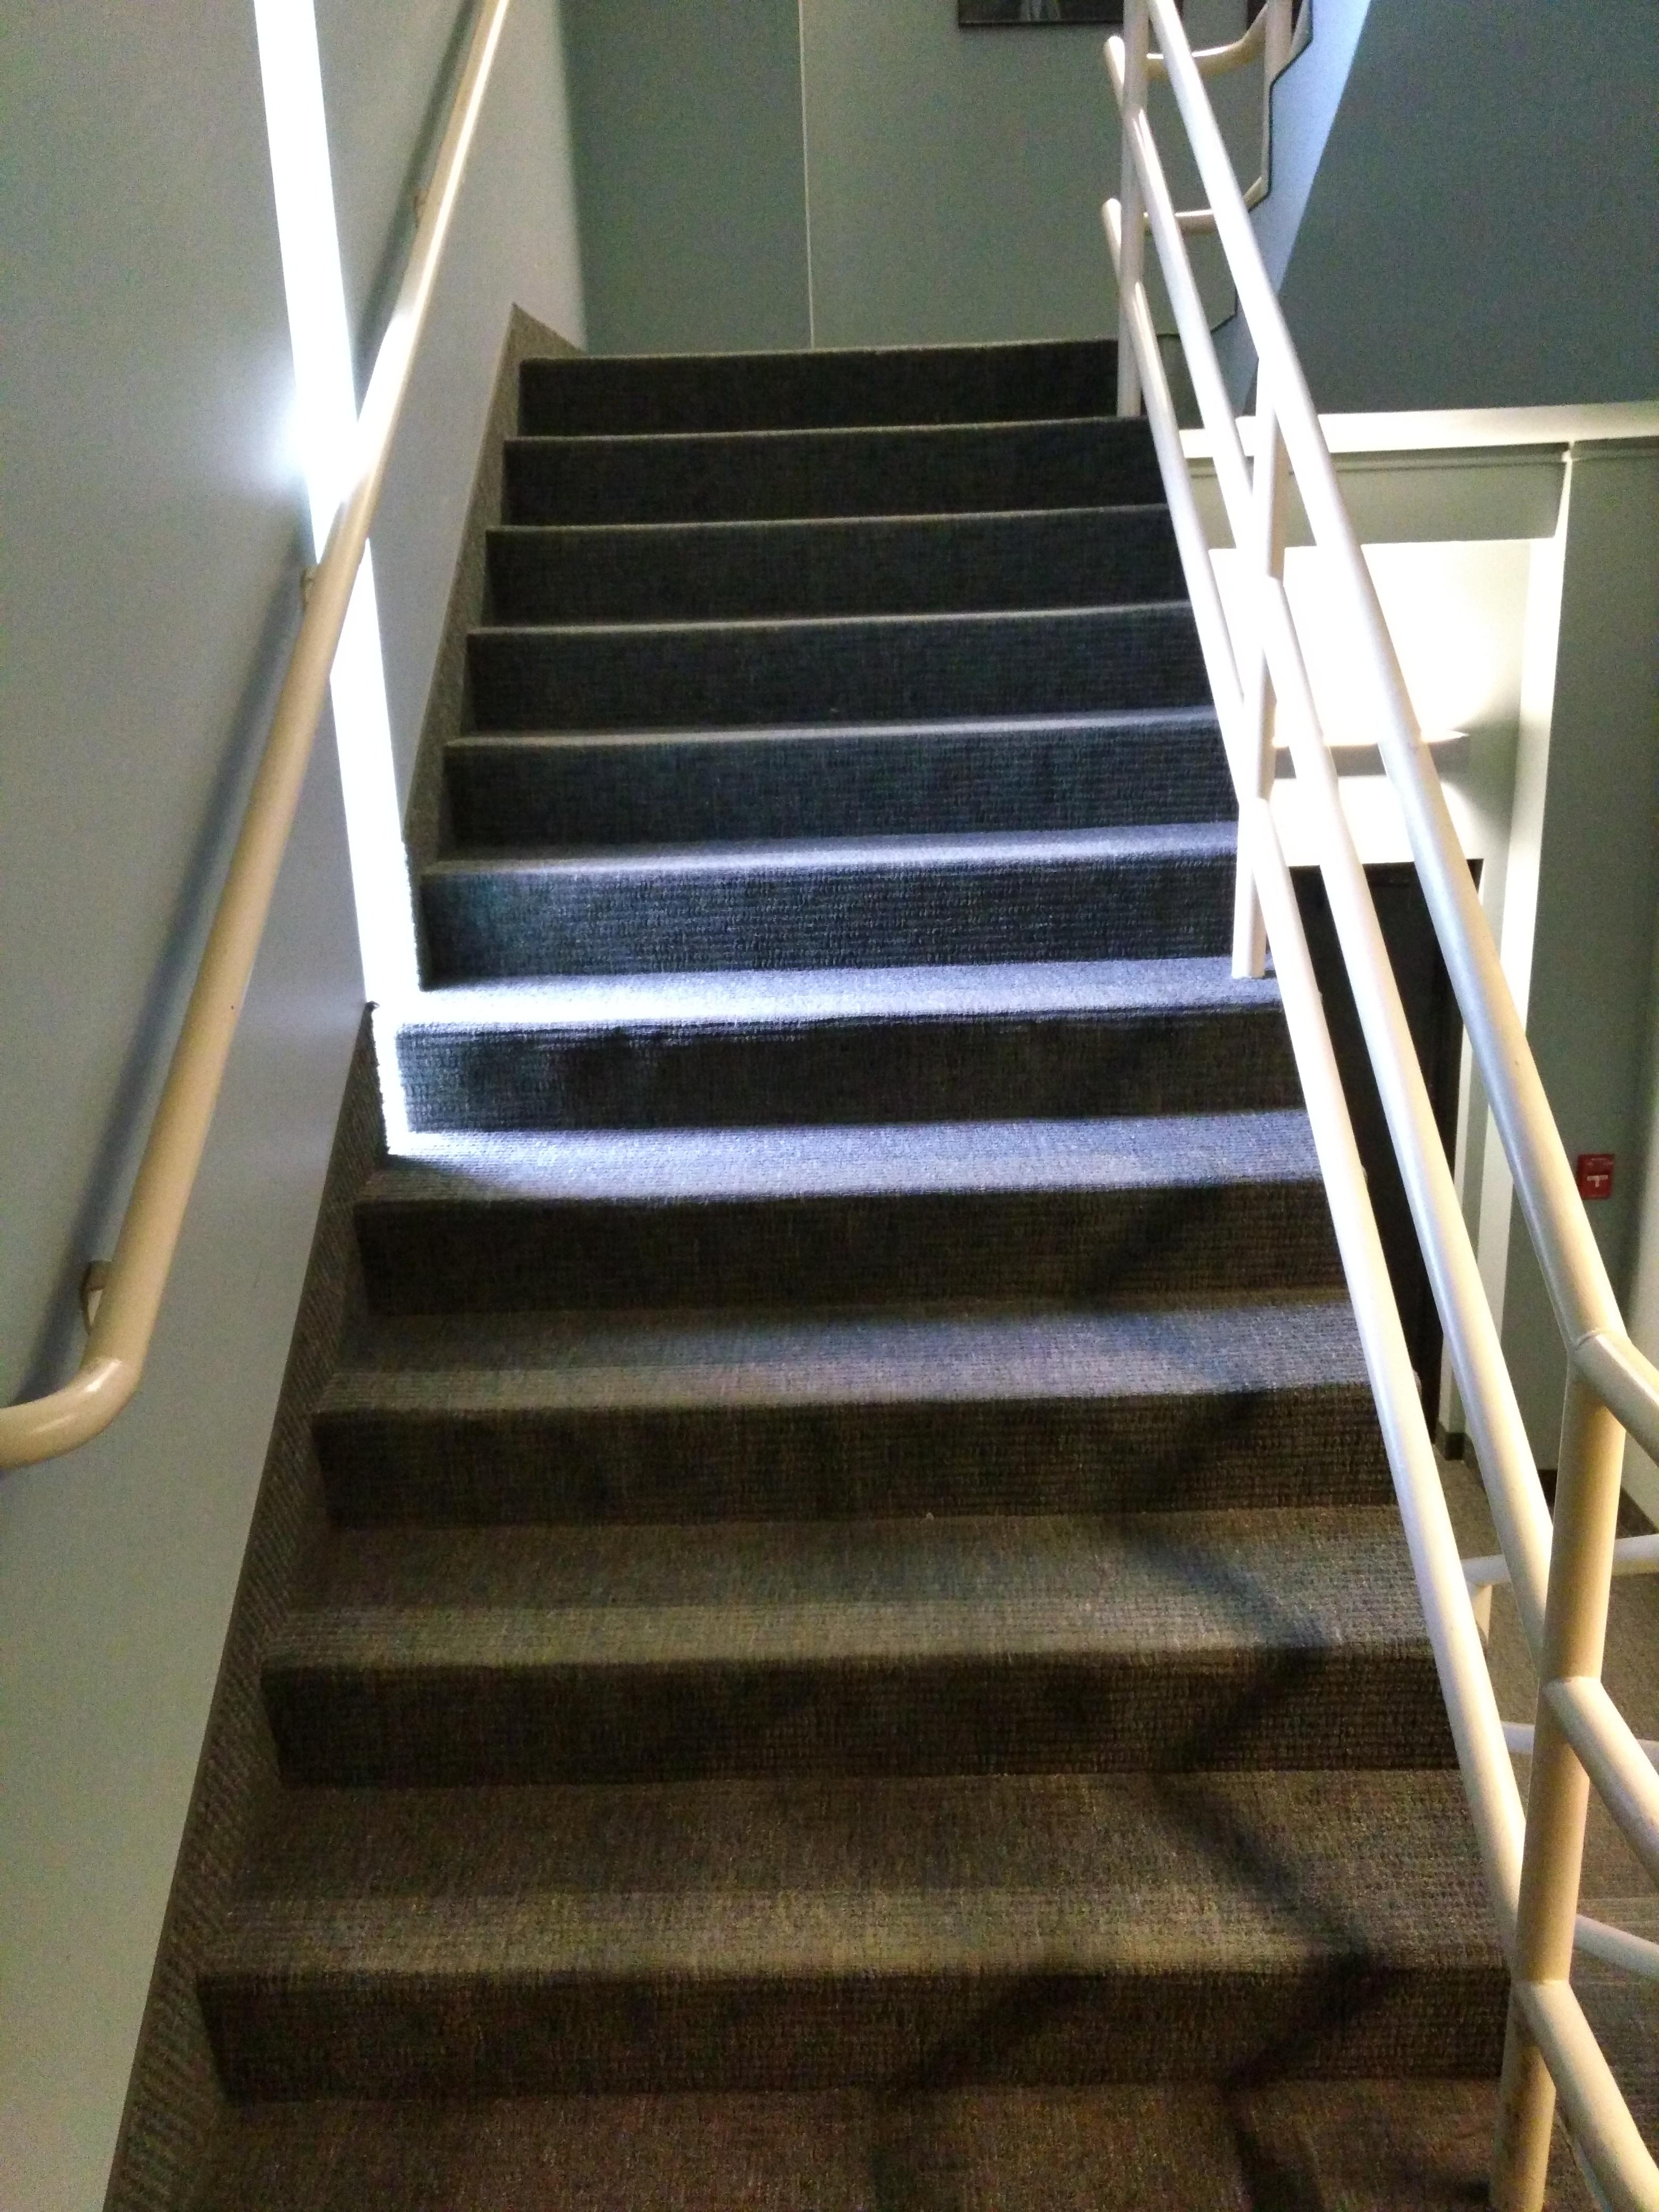stairs_up: (188, 286, 1506, 2008)
